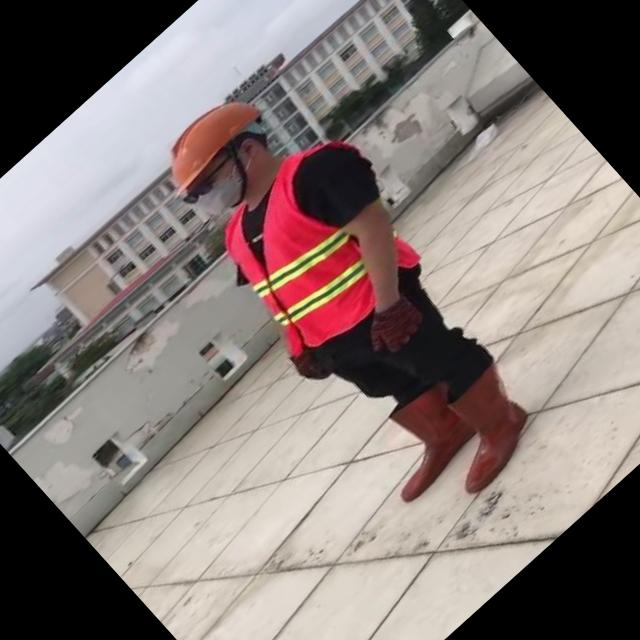hard_hat: (145, 72, 278, 200)
safety_vest: (196, 133, 426, 363)
vehicle: (102, 37, 591, 545)
work_boots: (410, 360, 551, 500), (358, 370, 492, 502)
